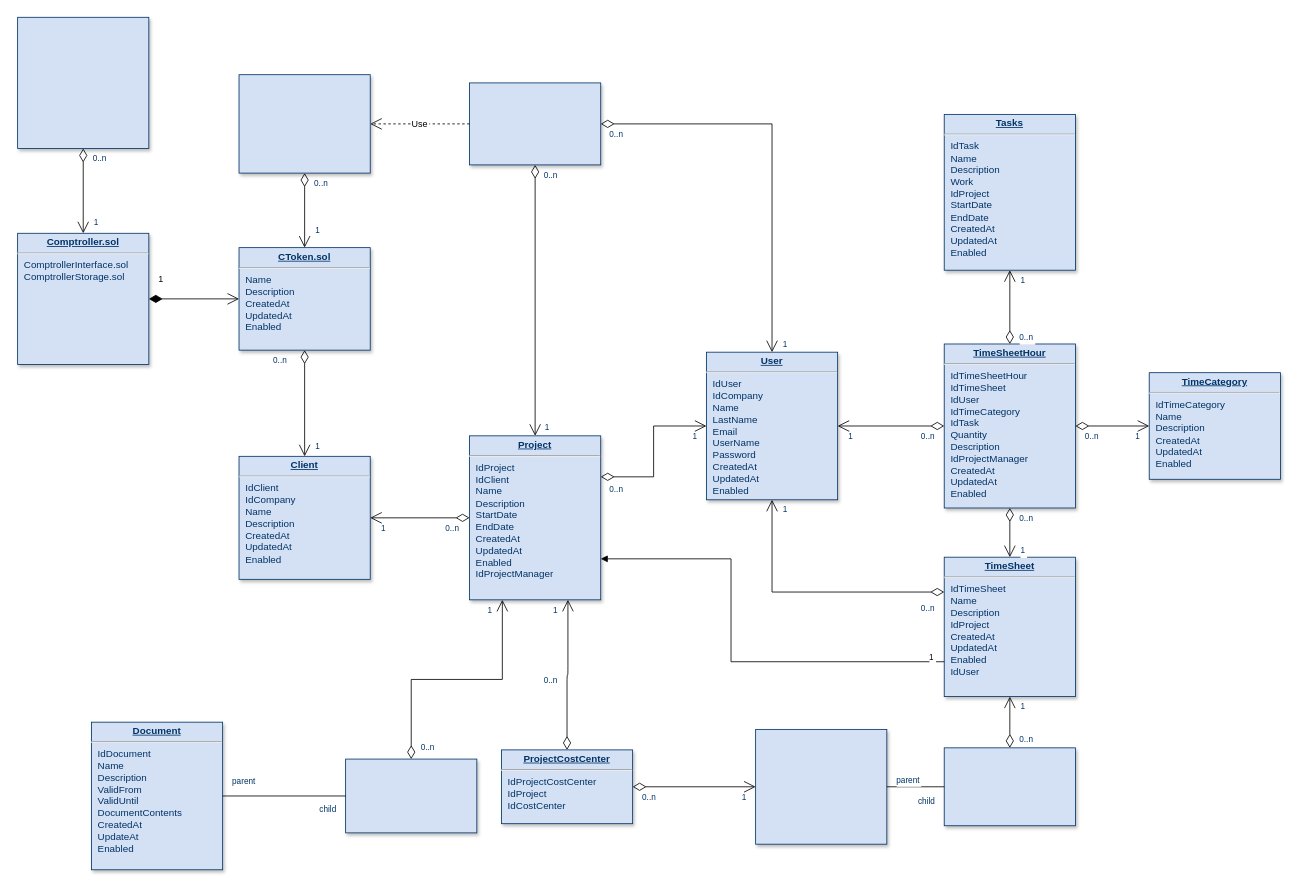
Some shapes in this 1300 by 891 pixel diagram are drawn without their labels. Here are the shapes that lost their labels. From the top down, the centre of each, then its label:
At pixel 84 83: "Admin".
At pixel 305 125: "Role IdCompany Name Description CreatedAt UpdatedAt Enabled".
At pixel 535 125: "UserProjectRole IdUserProjectRole IdRole IdProject IdUser".
At pixel 412 797: "ProjectDocument IdProjectDocument IdProject IdDocument".
At pixel 822 787: "CostCenter IdCostCenter Name Description CreatedAt UpdatedAt Enabled".
At pixel 1010 787: "TimeSheetCostCenter IdTimeSheetCostCenter IdTimeSheet IdCostCenter".
